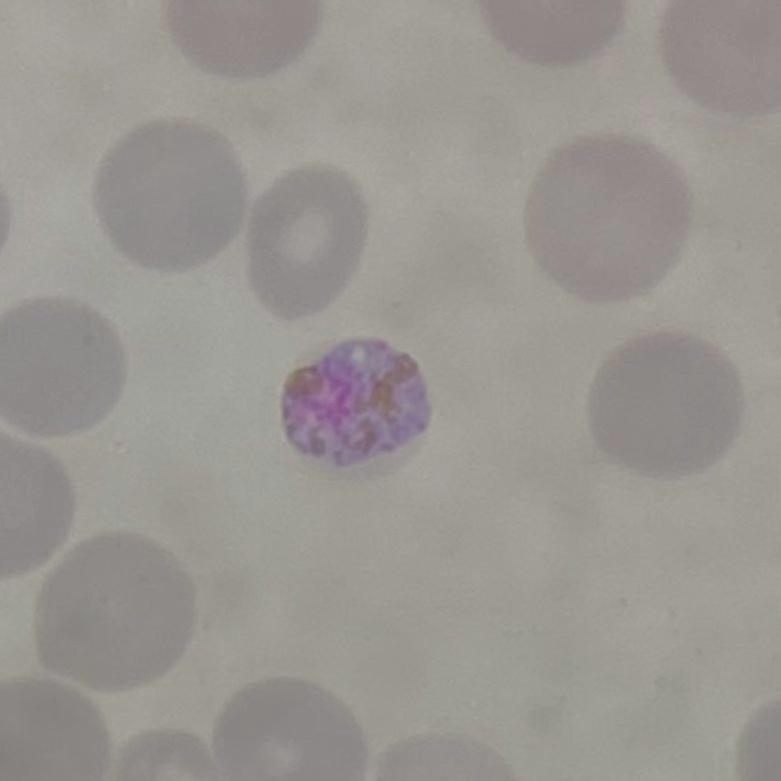Infected: (280, 333, 434, 481)
Uninfected: (528, 133, 691, 306), (30, 531, 198, 695), (588, 333, 742, 484), (94, 117, 242, 270), (242, 162, 362, 322), (0, 301, 127, 437), (658, 0, 779, 124), (216, 681, 359, 781), (0, 677, 113, 781)
